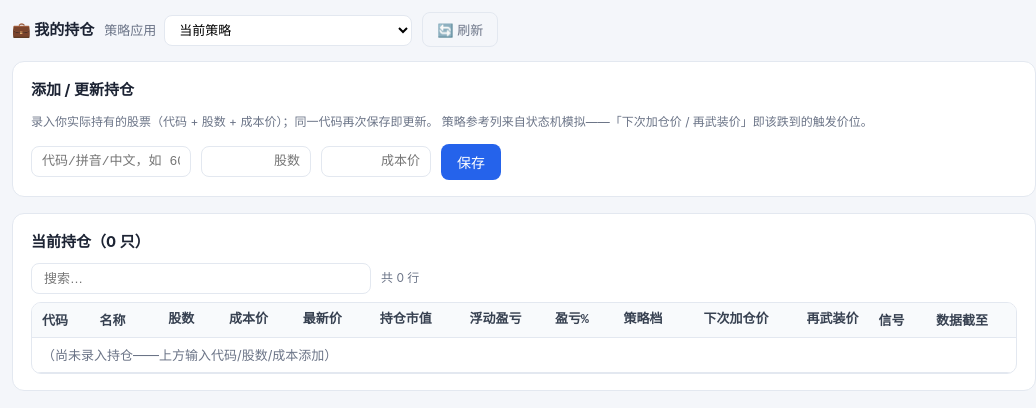
Test: MyPositionsTab · 代码模糊搜索（v7.0.3） › 输代码数字 → 候选出现；Enter 确认第一条候选（不发 PUT）
This screenshot has width=1036, height=408.
Type "600900" into the field with placeholder "代码/拼音/中文，如 600036、zgsh、长江电力" at {"x": 111, "y": 162}, box top-left (31, 146), bottom-right (191, 177)
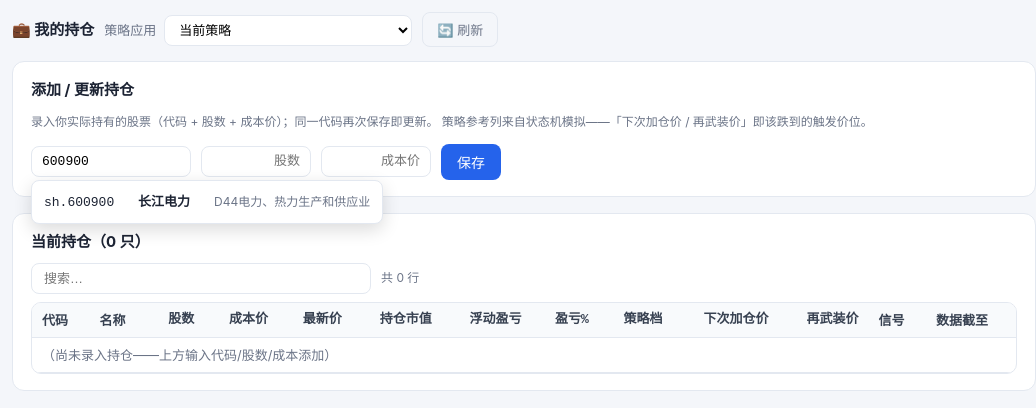
Now the list with class "code-sug-list" is shown, box top-left (31, 180), bottom-right (383, 224)
Press Enter in the 1st field, box top-left (31, 146), bottom-right (191, 177)
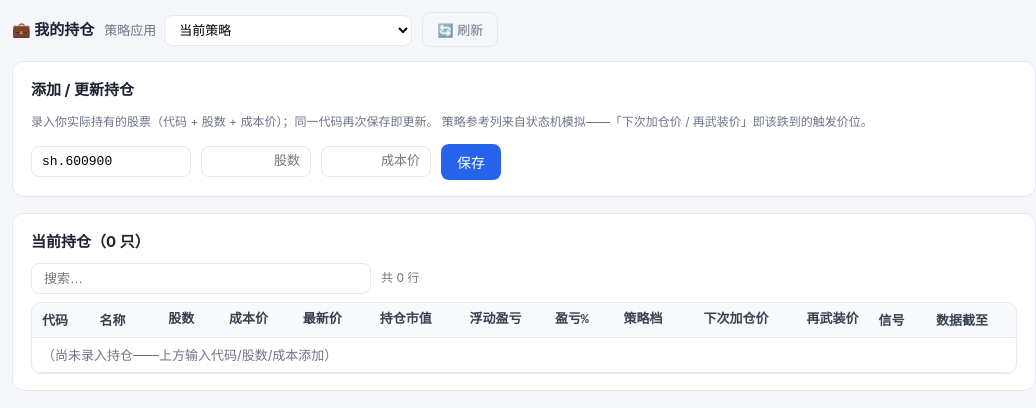
Now the 1st field holds "sh.600900", box top-left (31, 146), bottom-right (191, 177)
